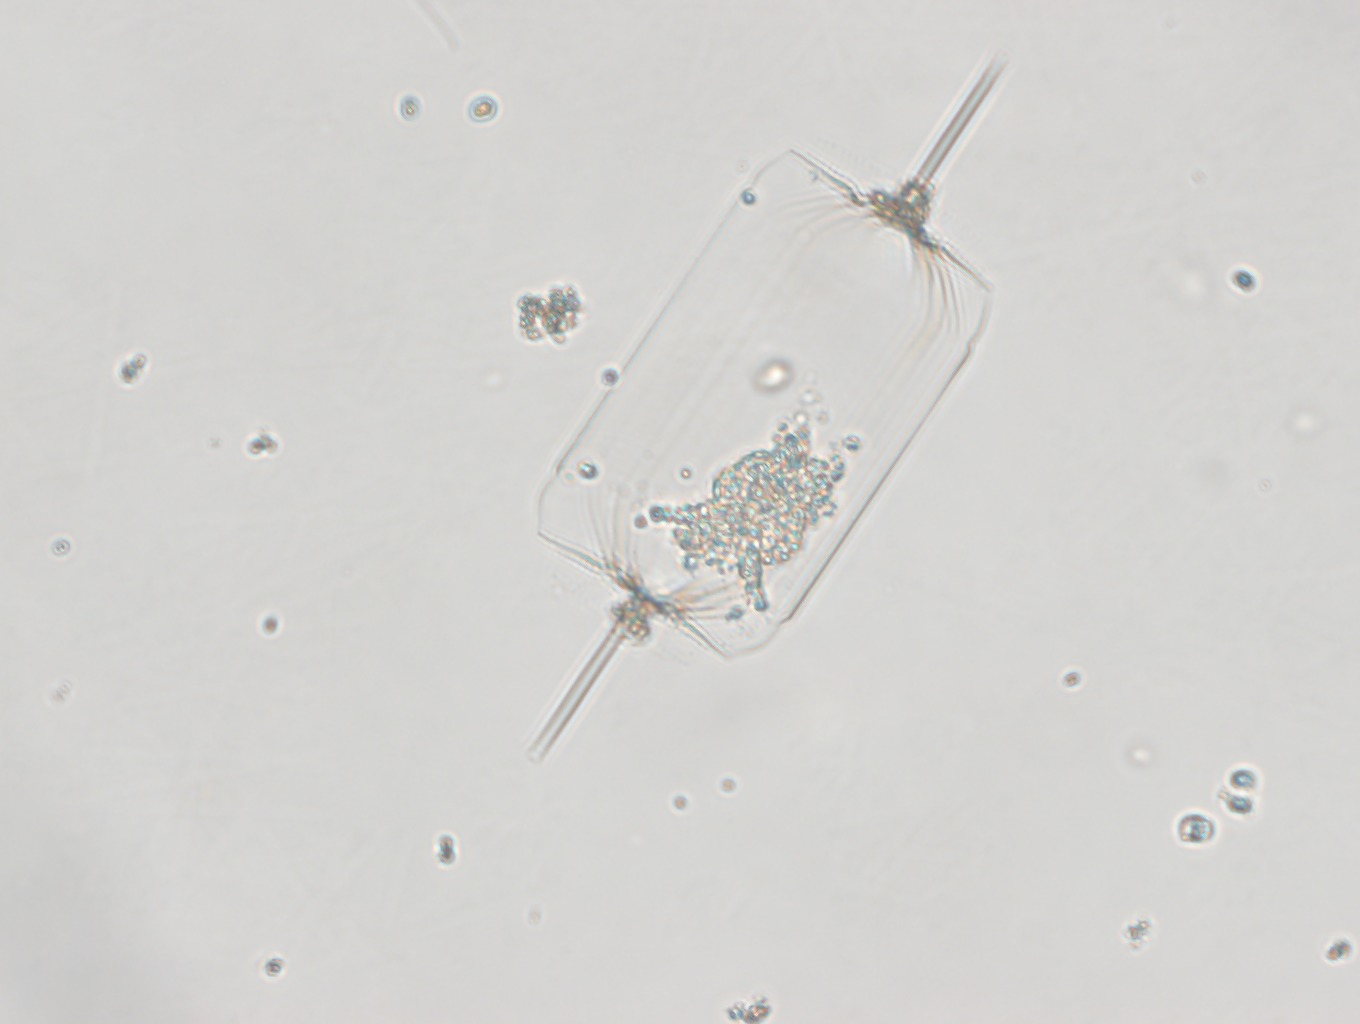ditylum: (524, 42, 1014, 771)
